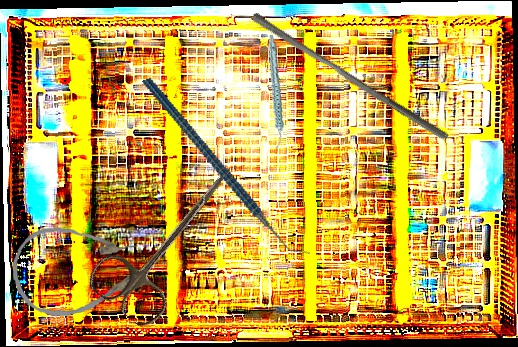Cannula: (10, 221, 143, 320)
Chopper: (142, 46, 311, 288)
Handpiece: (251, 34, 298, 150)
Iris Scissors: (83, 141, 258, 333)
Pusher: (245, 11, 456, 143)
